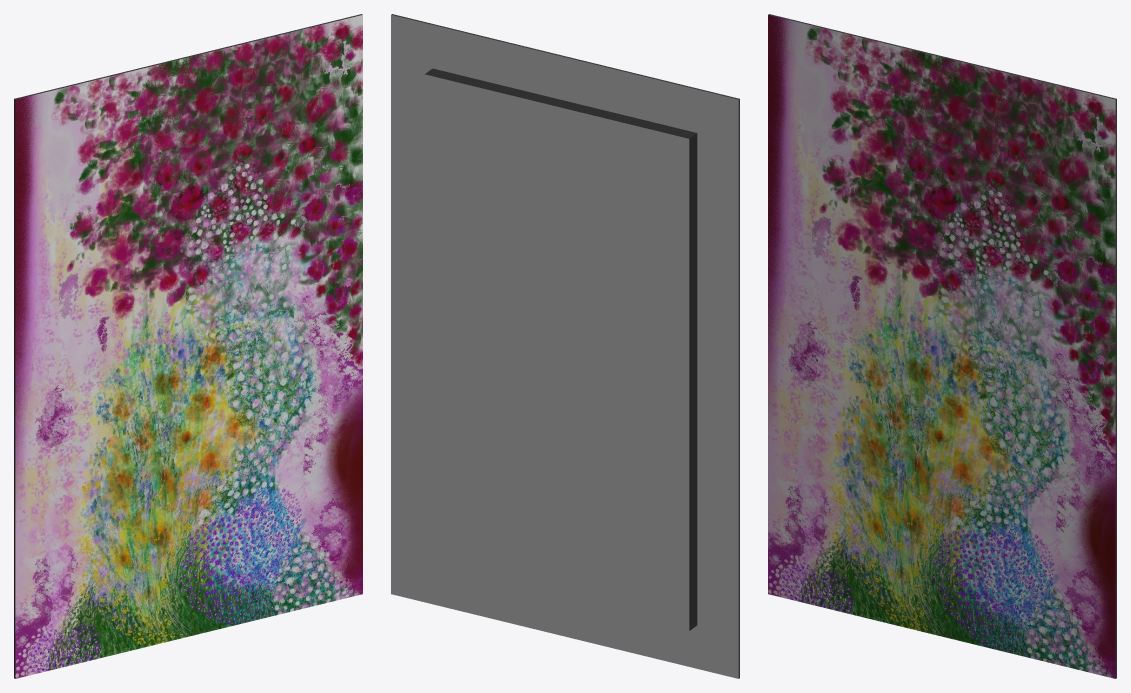
File: os005_moyen_dibond.glb
The picture shows the model from 3 angles, left to right: view 1: azimuth 30°, elevation 25°; view 2: azimuth 150°, elevation 25°; view 3: azimuth 330°, elevation 25°; orthographic projection.
Parts seen in each view (by area): view 1: os005_moyen_dibond; view 2: os005_moyen_dibond; view 3: os005_moyen_dibond.
Part boxes in pixels (x1,y1,x2,y2): os005_moyen_dibond: (14,14,362,678); os005_moyen_dibond: (391,14,739,678); os005_moyen_dibond: (768,14,1116,678).
Bounding box in the file's own units: 0.5024 × 0.8 × 0.023.
Materials: 4 (1 with a texture image).
